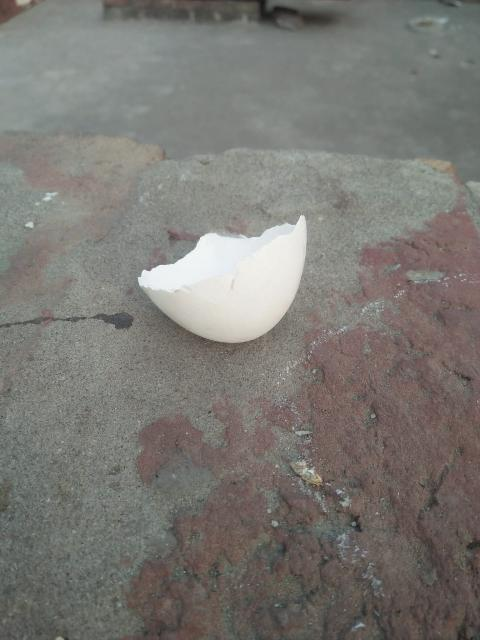Roto: (137, 213, 308, 344)
